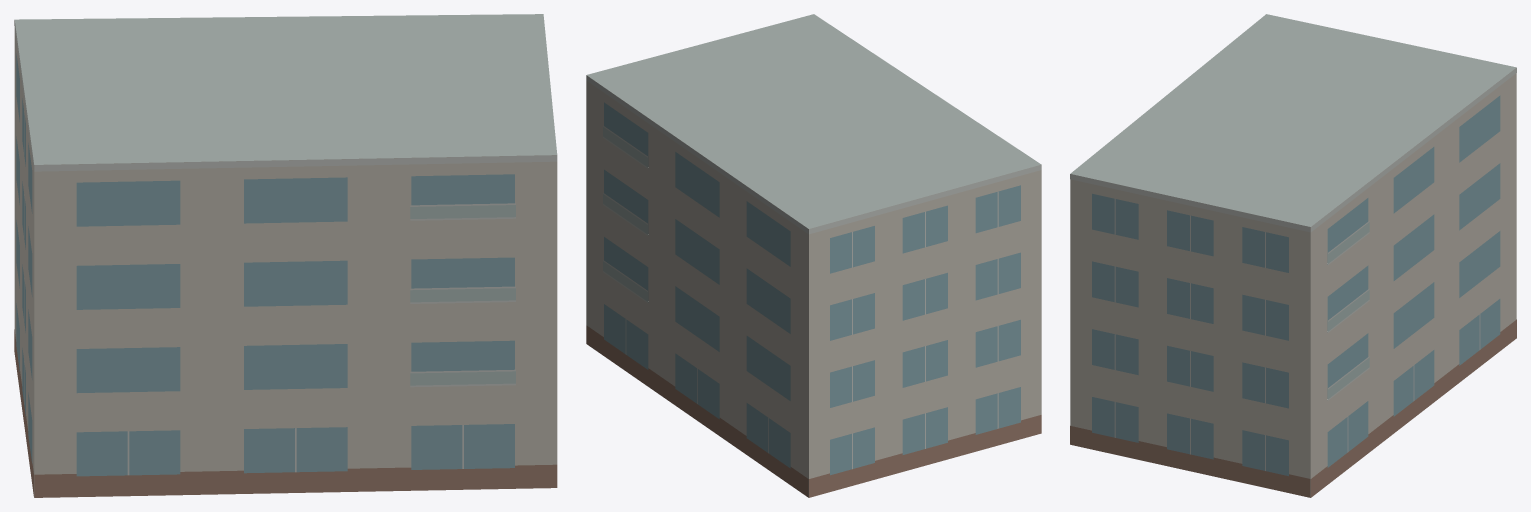
Rendered from survey-upis-32657310.glb.
The picture shows the model from 3 angles, left to right: view 1: azimuth 30°, elevation 25°; view 2: azimuth 150°, elevation 25°; view 3: azimuth 270°, elevation 25°; orthographic projection. The views are drawn at different scales.
Visible parts, largest first — view 1: survey-upis-32657310.tmp; view 2: survey-upis-32657310.tmp; view 3: survey-upis-32657310.tmp.
Boxes of the visible parts, x1,y1,x2,y2 form: survey-upis-32657310.tmp: (14,14,557,497); survey-upis-32657310.tmp: (586,14,1041,497); survey-upis-32657310.tmp: (1070,14,1516,497).
Size of the model in its own units: 20.59 by 12.2 by 18.25.
